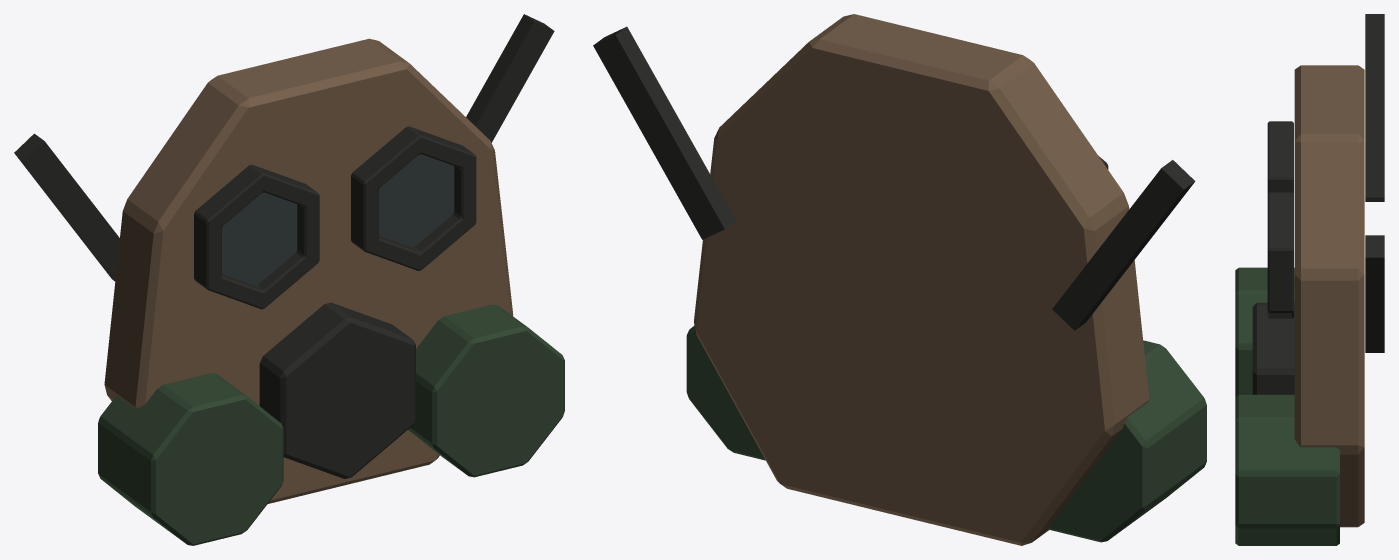
Rendered from gas_mask.obj.
3 renders of one model, left to right at view 1: azimuth 30°, elevation 25°; view 2: azimuth 150°, elevation 25°; view 3: azimuth 270°, elevation 25°, orthographic. The views are drawn at different scales.
Parts seen in each view (by area): view 1: B_MaskShell.001_aged_cloth, B_LeftFilter.001_wet_residue, B_Muzzle.001_wrought_iron, B_LeftLensFrame.001_wrought_iron, B_LeftLens.001_smoked_glass, B_LeftStrap.001_wrought_iron; view 2: B_MaskShell.001_aged_cloth, B_LeftFilter.001_wet_residue, B_LeftStrap.001_wrought_iron; view 3: B_MaskShell.001_aged_cloth, B_LeftFilter.001_wet_residue, B_LeftStrap.001_wrought_iron, B_LeftLensFrame.001_wrought_iron, B_Muzzle.001_wrought_iron.
Boxes of the visible parts, box(x1,y1,x2,y2) form: B_MaskShell.001_aged_cloth: box(104, 38, 513, 503); B_LeftFilter.001_wet_residue: box(98, 304, 564, 545); B_Muzzle.001_wrought_iron: box(259, 302, 415, 478); B_LeftLensFrame.001_wrought_iron: box(194, 126, 476, 309); B_LeftLens.001_smoked_glass: box(222, 154, 454, 285); B_LeftStrap.001_wrought_iron: box(14, 14, 554, 281); B_MaskShell.001_aged_cloth: box(694, 14, 1149, 545); B_LeftFilter.001_wet_residue: box(686, 325, 1206, 542); B_LeftStrap.001_wrought_iron: box(593, 26, 1195, 330); B_MaskShell.001_aged_cloth: box(1294, 65, 1364, 527); B_LeftFilter.001_wet_residue: box(1235, 267, 1339, 545); B_LeftStrap.001_wrought_iron: box(1365, 14, 1384, 352); B_LeftLensFrame.001_wrought_iron: box(1267, 121, 1293, 318); B_Muzzle.001_wrought_iron: box(1252, 302, 1294, 394).
Size of the model in its own units: 1.62 by 1.2 by 0.4275.
